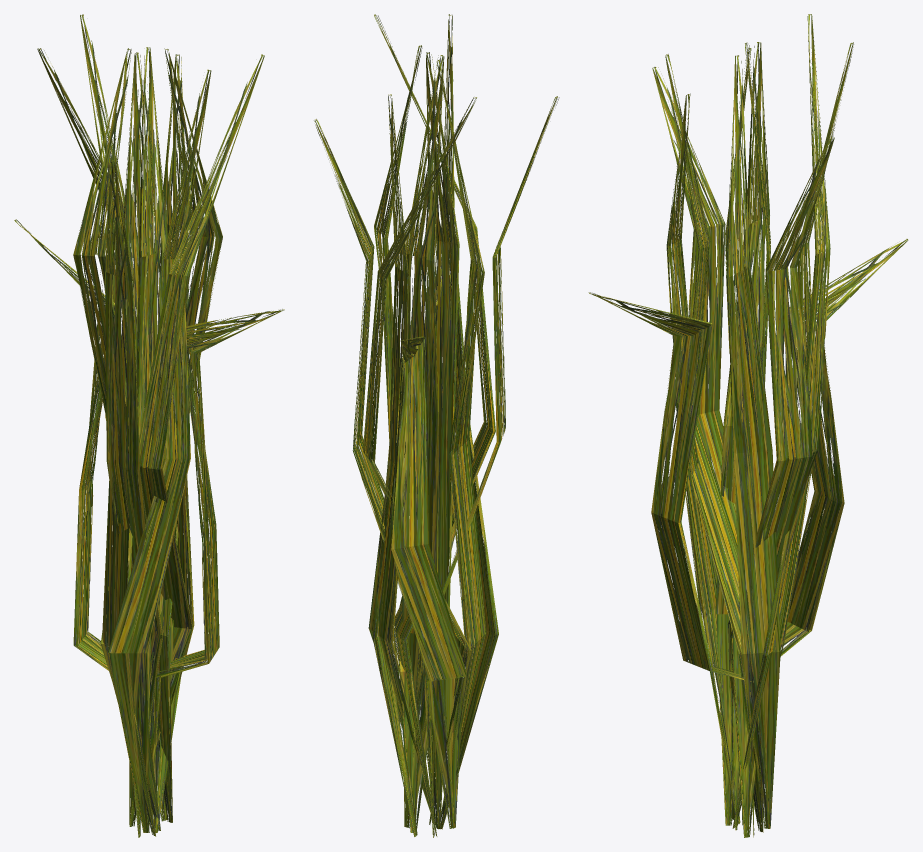
Rendered from Strauch.fbx.
The picture shows the model from 3 angles, left to right: view 1: azimuth 30°, elevation 25°; view 2: azimuth 150°, elevation 25°; view 3: azimuth 270°, elevation 25°; orthographic projection.
Visible parts, largest first — view 1: Cube.011; view 2: Cube.011; view 3: Cube.011.
Part boxes in pixels (x1,y1,x2,y2): Cube.011: (14, 14, 284, 837); Cube.011: (314, 14, 559, 837); Cube.011: (588, 14, 908, 837).
Bounding box in the file's own units: 34.65 × 153 × 56.74.
1 material, 1 textured.
